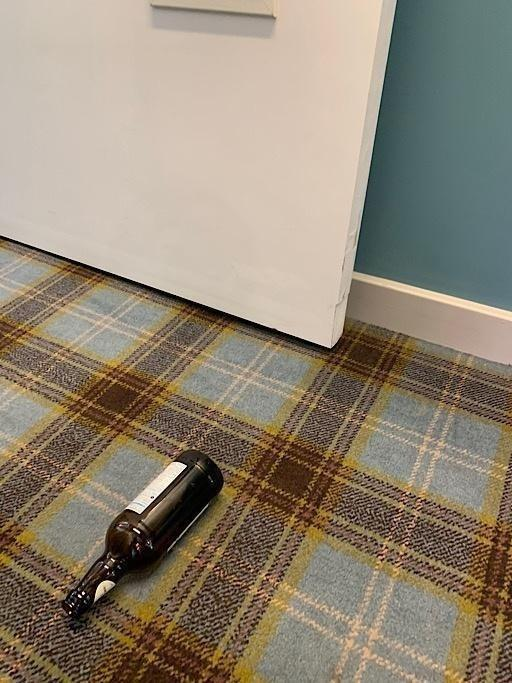bottle-glass: (62, 445, 224, 617)
